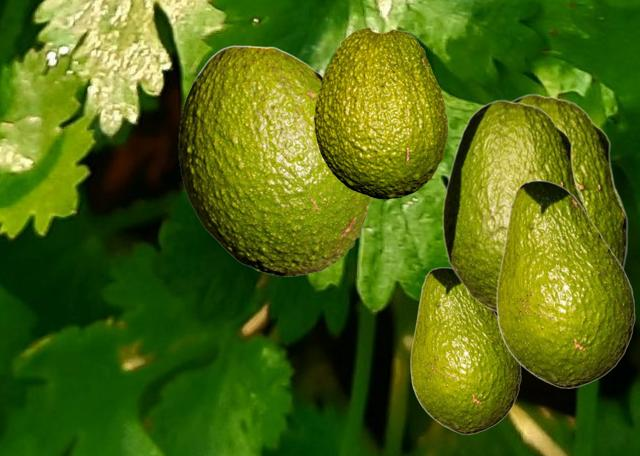avocado: (178, 45, 372, 275), (442, 99, 587, 312), (496, 180, 634, 387), (314, 27, 446, 198), (511, 93, 627, 268), (410, 267, 520, 433)
